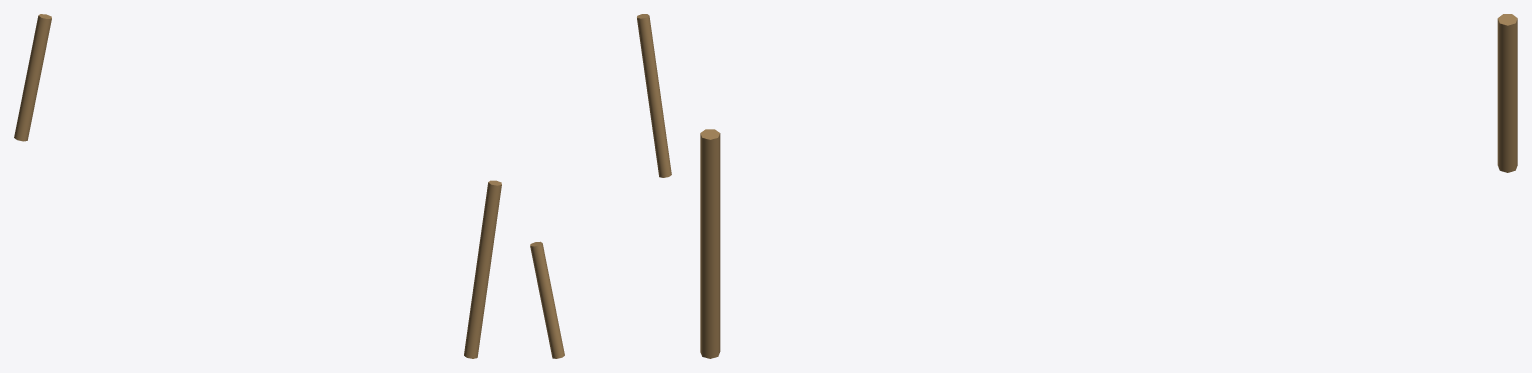
File: SM_Menu_SpotlightCables.fbx
3 renders of one model, left to right at view 1: azimuth 30°, elevation 25°; view 2: azimuth 150°, elevation 25°; view 3: azimuth 270°, elevation 25°, orthographic. The views are drawn at different scales.
Visible parts, largest first — view 1: SM_Menu_SpotlightCables; view 2: SM_Menu_SpotlightCables; view 3: SM_Menu_SpotlightCables.
Part boxes in pixels (left/top/right/bottom): SM_Menu_SpotlightCables: left=14, top=14, right=501, bottom=358; SM_Menu_SpotlightCables: left=530, top=14, right=671, bottom=358; SM_Menu_SpotlightCables: left=700, top=14, right=1517, bottom=358.
Size of the model in its own units: 58.36 by 145 by 46.62.
